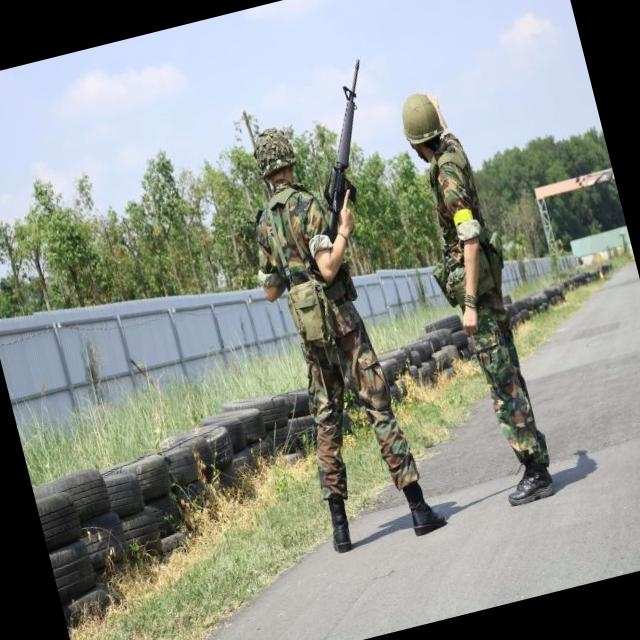Gun: (324, 59, 361, 243)
